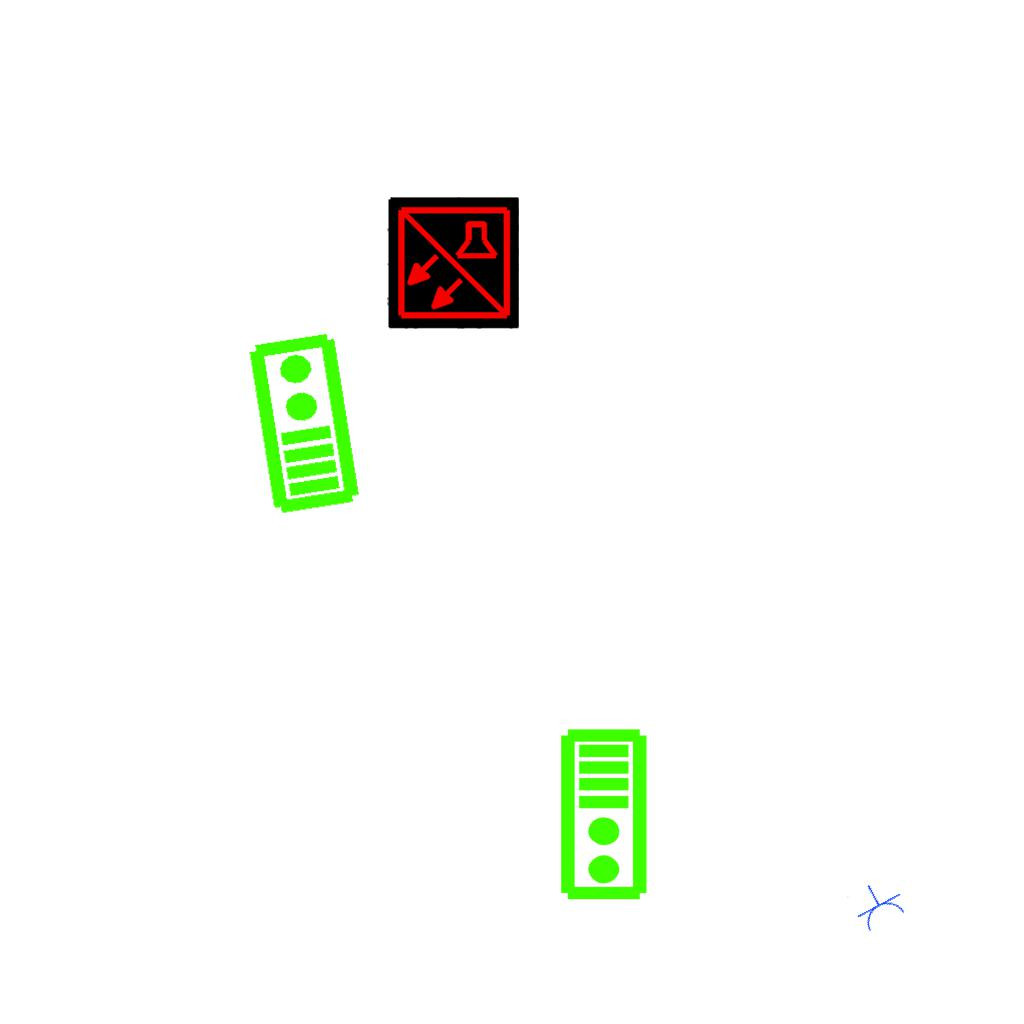Gegensprechanlage_mit_Video: (241, 328, 364, 518), (558, 727, 653, 903)
OKW_Multisensormelder_(Kombination_optischer_Rauch-Kahlenmonoxid_Waerme-Melder): (387, 197, 519, 329)
Schukosteckdose_einfach: (845, 873, 911, 936)
